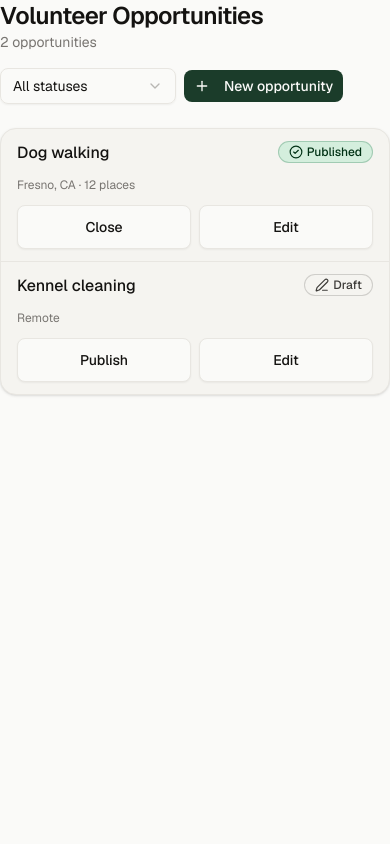
OpportunitiesClient row action naming (T36) › opens the edit dialog from the card without navigating
Click the button named "Edit \"Kennel cleaning\"": point(286, 360) [199,338,373,382]
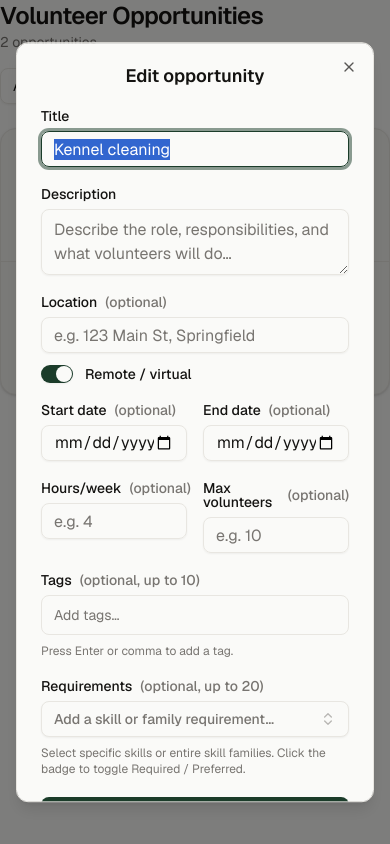
Expected: the dialog is shown
